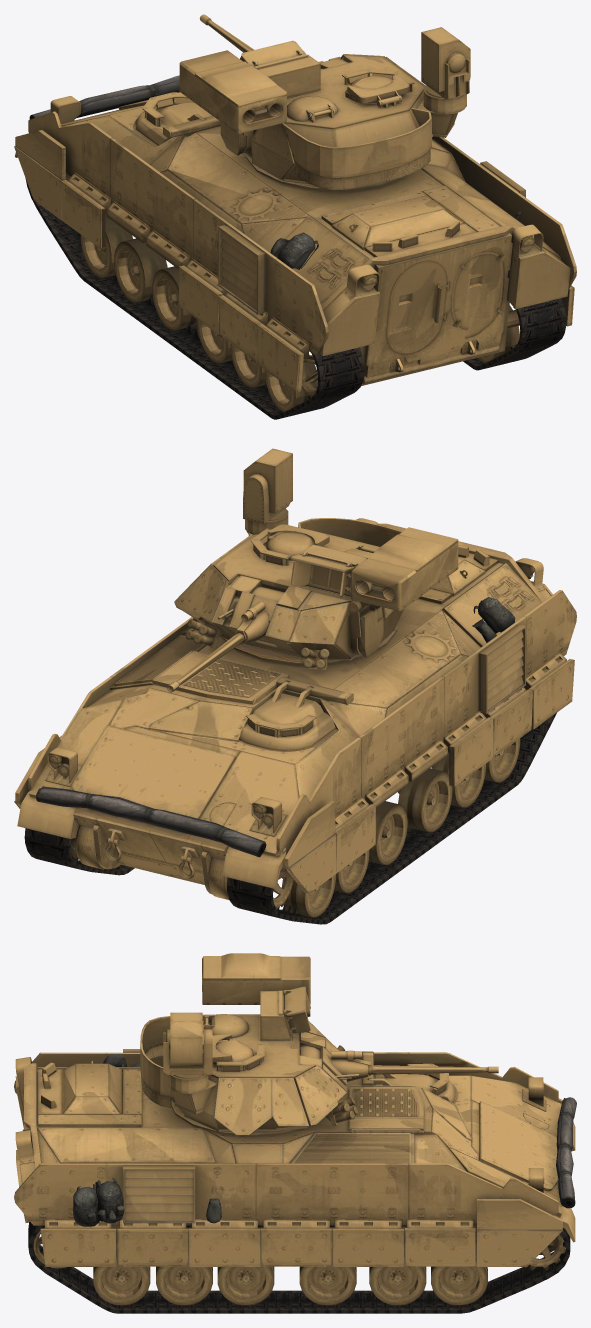
3 views of the same model, one above another, from view 1: azimuth 30°, elevation 25°; view 2: azimuth 150°, elevation 25°; view 3: azimuth 270°, elevation 25° (orthographic). The views are drawn at different scales.
Visible parts, largest first — view 1: body, turret, track_l, track_r; view 2: body, turret, track_l, track_r, gun; view 3: body, turret, track_r, gun.
Part boxes in pixels (<box>): body: <box>14,51,576,411</box>; turret: <box>179,27,470,190</box>; track_l: <box>25,178,364,419</box>; track_r: <box>463,298,566,370</box>; body: <box>14,518,576,917</box>; turret: <box>174,448,458,669</box>; track_l: <box>227,713,556,924</box>; track_r: <box>24,828,134,875</box>; gun: <box>167,607,256,692</box>; body: <box>14,1049,576,1305</box>; turret: <box>140,953,368,1136</box>; track_r: <box>28,1222,570,1313</box>; gun: <box>347,1050,498,1075</box>.
Bounding box in the file's own units: 3.55 × 3.58 × 6.54.
Materials: 3 (3 with a texture image).
